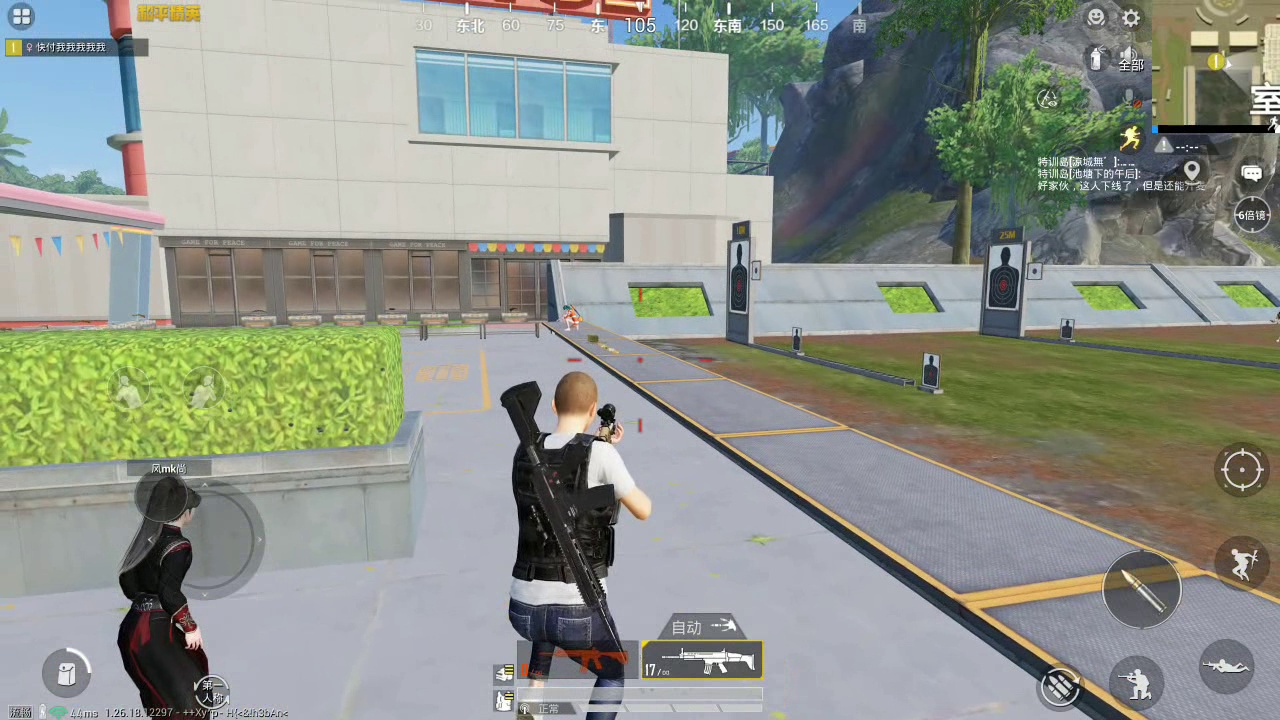enemy: (119, 480, 218, 720), (562, 301, 583, 331)
